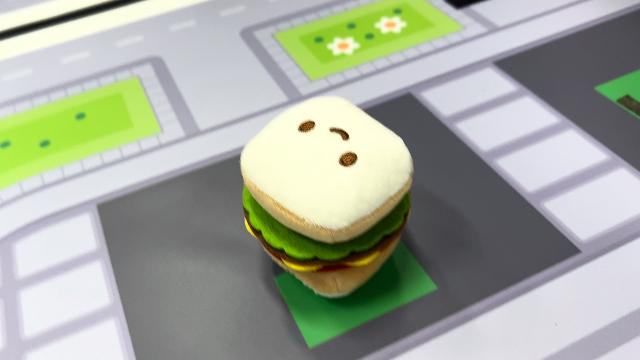sandwich: (237, 92, 417, 300)
